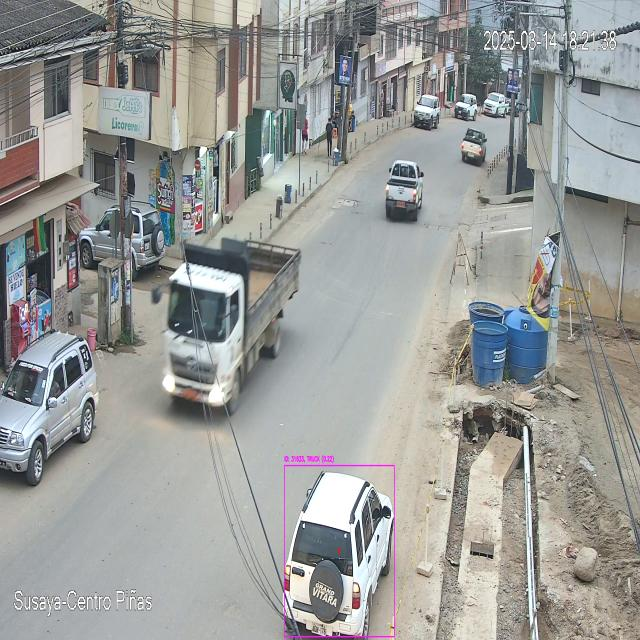CMT: (384, 160, 424, 225)
SUV: (284, 471, 394, 638)
TRUCK: (162, 238, 301, 415)
